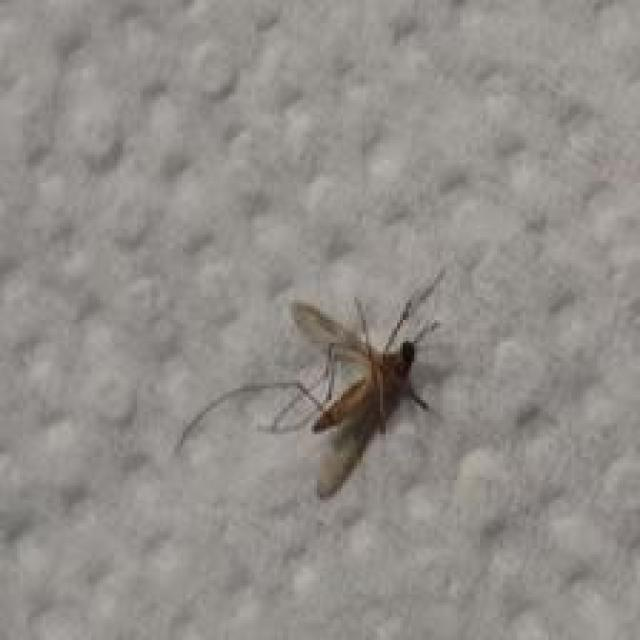Culex: (174, 264, 449, 502)
